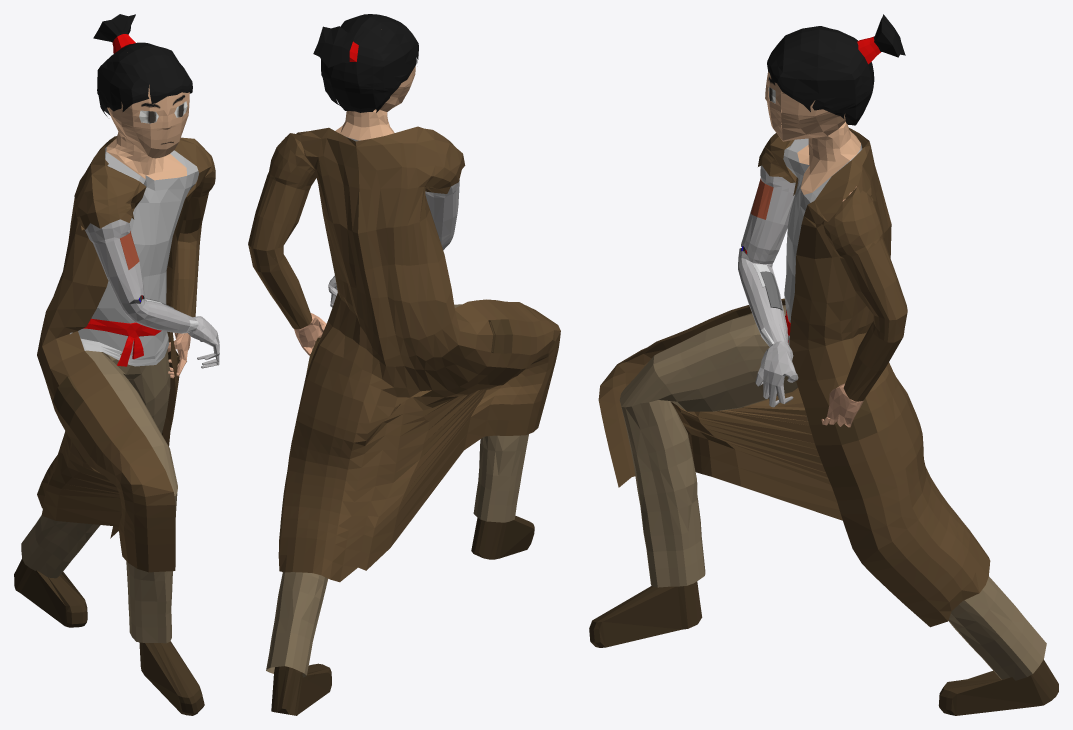
The model's file is One_RR_000002.obj.
The picture shows the model from 3 angles, left to right: view 1: azimuth 30°, elevation 25°; view 2: azimuth 150°, elevation 25°; view 3: azimuth 270°, elevation 25°; orthographic projection. The views are drawn at different scales.
Parts seen in each view (by area): view 1: Hair_Cube.004; view 2: Hair_Cube.004; view 3: Hair_Cube.004.
Boxes of the visible parts, x1,y1,x2,y2 form: Hair_Cube.004: (14, 14, 219, 715); Hair_Cube.004: (248, 14, 560, 715); Hair_Cube.004: (589, 14, 1058, 715).
Bounding box in the file's own units: 1.2 × 3.66 × 2.23.
